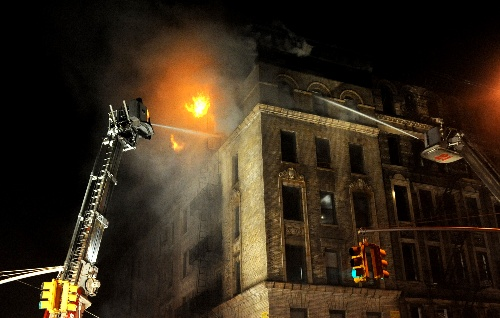fire: (180, 86, 213, 119)
